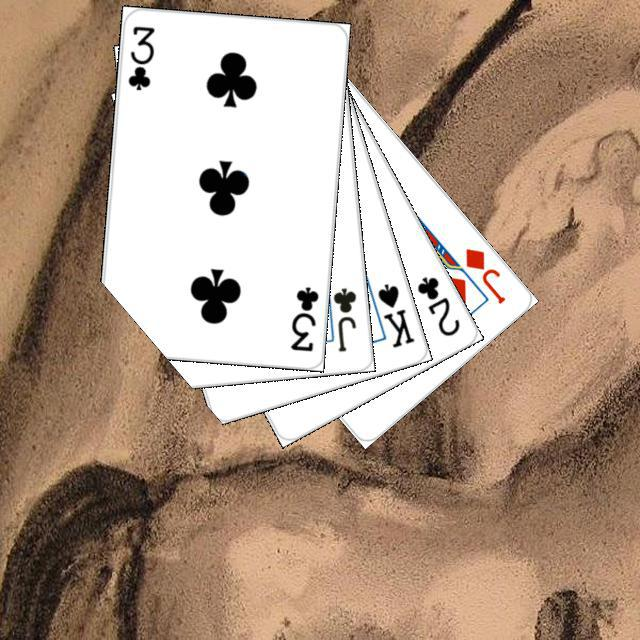2c: (412, 271, 462, 338)
3c: (285, 281, 321, 353), (123, 21, 156, 93)
Jc: (328, 283, 358, 354)
Jd: (460, 242, 507, 306)
Ks: (372, 278, 416, 350)
